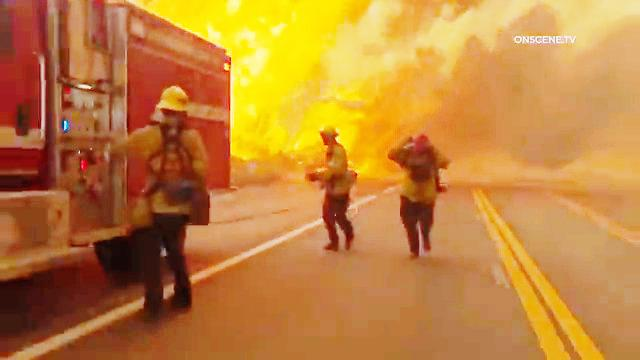fire: (233, 1, 312, 137)
smoke: (437, 58, 608, 151)
